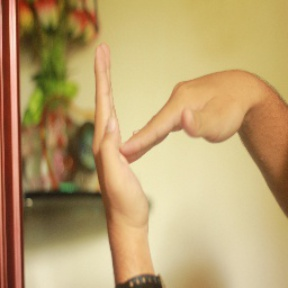Z: (83, 33, 245, 214)
